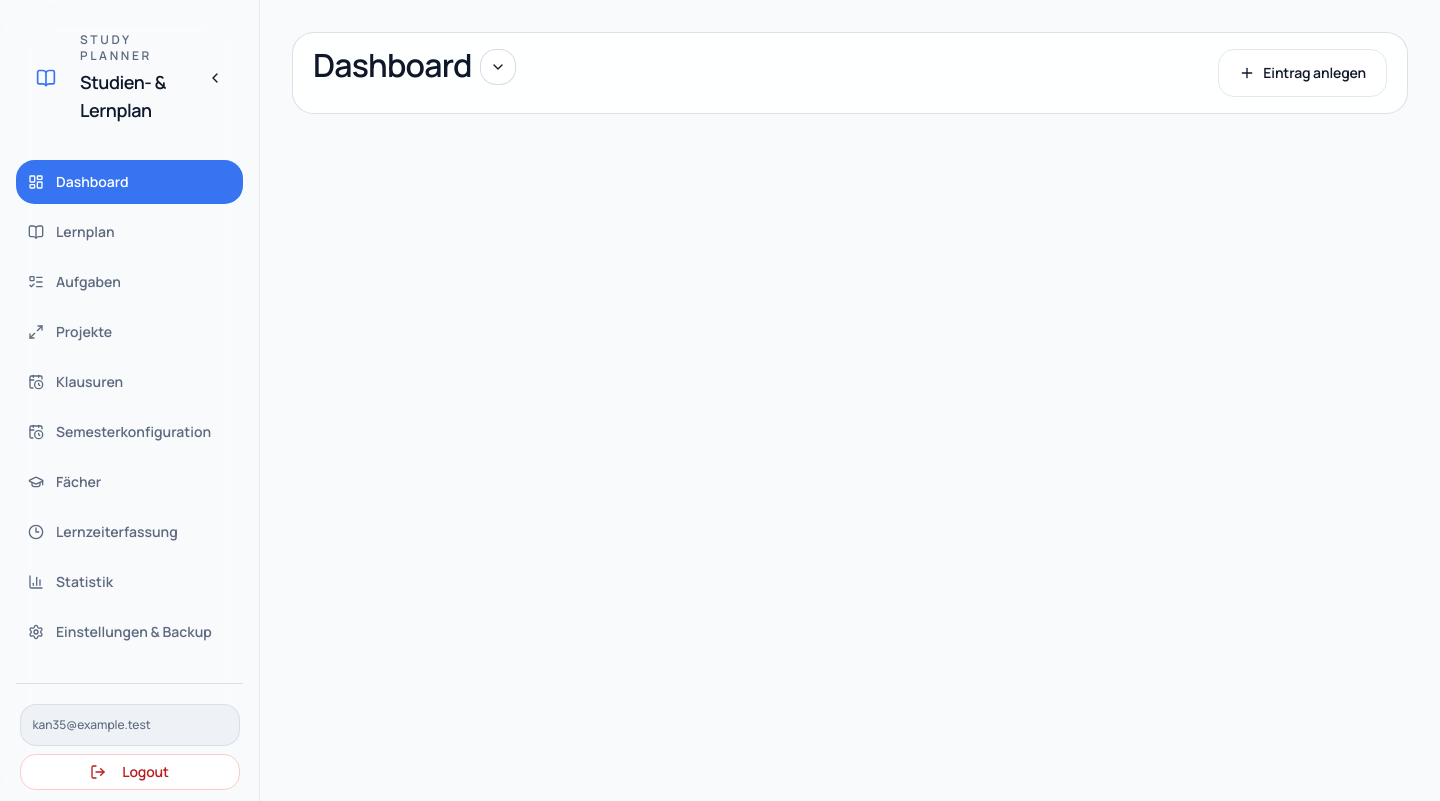
it: Einstellungen & Backup › öffnet die Einstellungsseite und zeigt die Datenzähler
This screenshot has width=1440, height=801.
Step 1. Click the button "Einstellungen & Backup" → (130, 632), box [16,610,243,654]
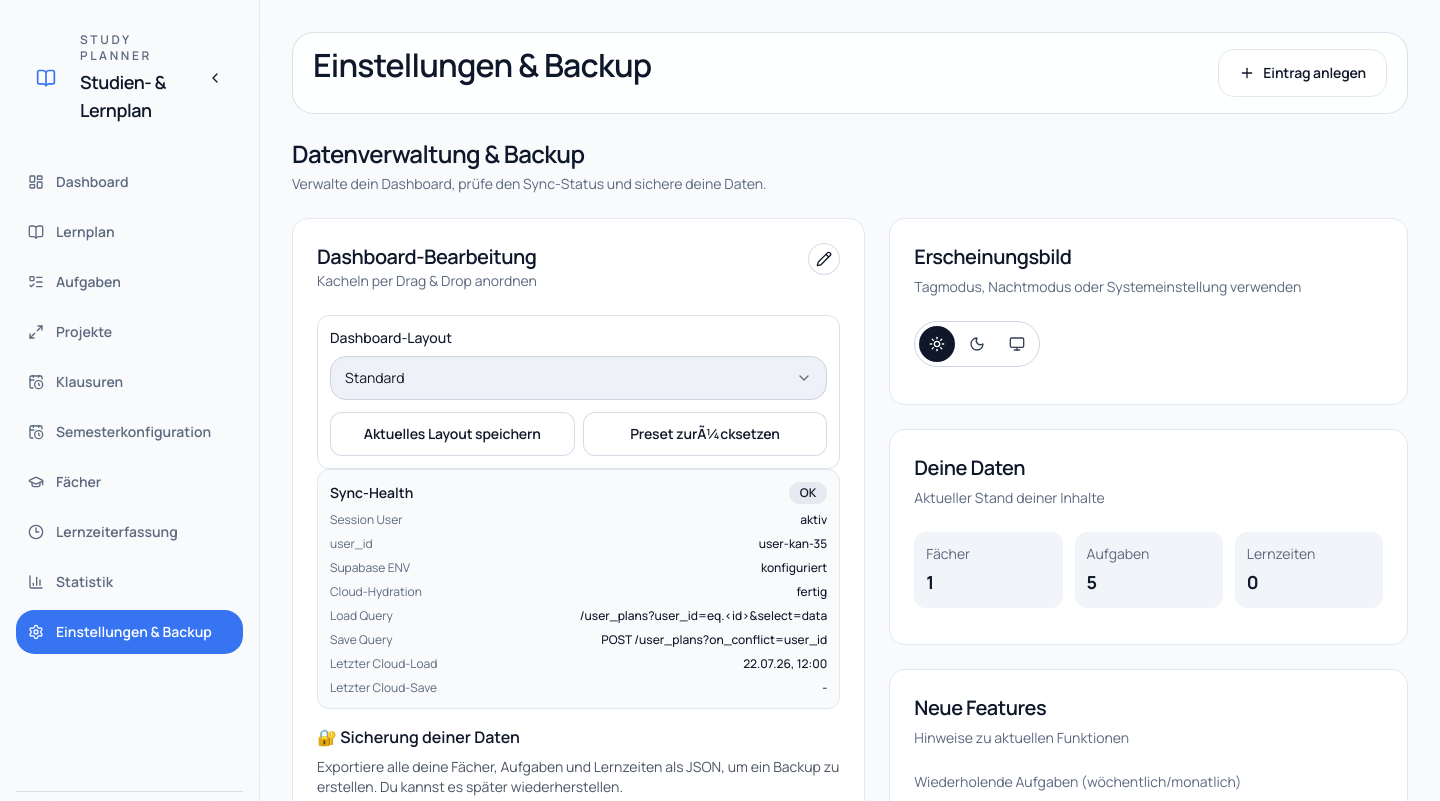
expect the heading "Datenverwaltung & Backup" is shown: met, box [292,137,584,170]
expect the text "Fächer" is shown: met, box [926,544,970,563]
expect the text "Aufgaben" is shown: met, box [1086,544,1149,563]
